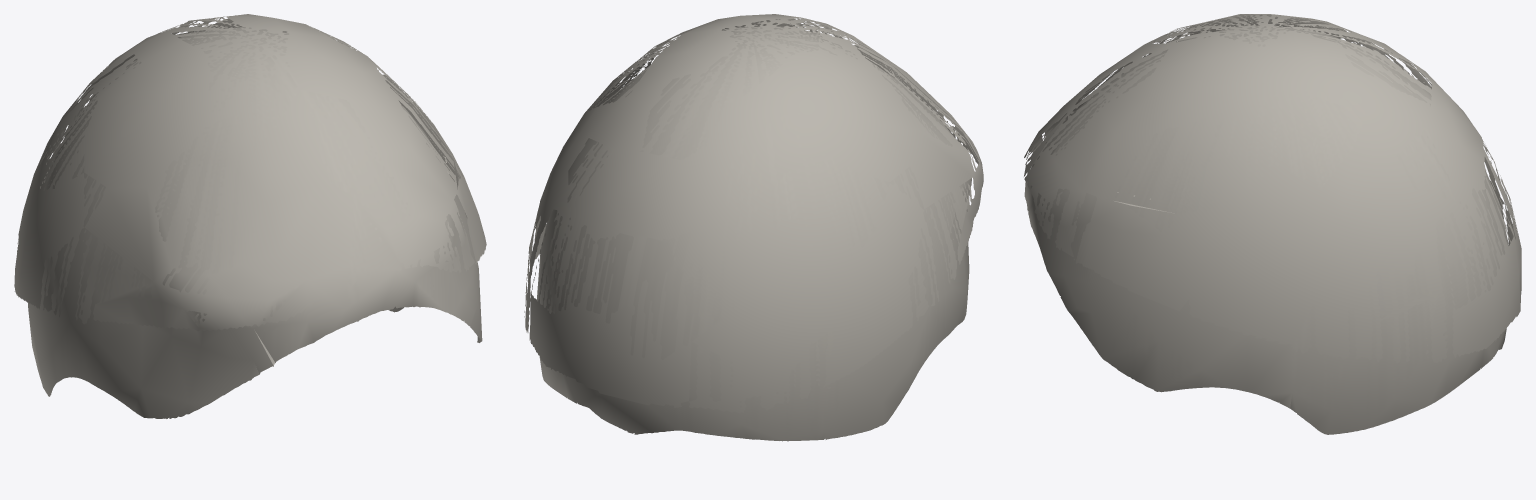
The model's file is toc_ngan_edits.mid.glb.
3 renders of one model, left to right at view 1: azimuth 30°, elevation 25°; view 2: azimuth 150°, elevation 25°; view 3: azimuth 270°, elevation 25°, orthographic. The views are drawn at different scales.
Visible parts, largest first — view 1: toc_ngan_edits; view 2: toc_ngan_edits; view 3: toc_ngan_edits.
Part boxes in pixels (x1,y1,x2,y2): toc_ngan_edits: [14, 14, 486, 418]; toc_ngan_edits: [524, 14, 983, 441]; toc_ngan_edits: [1024, 14, 1521, 434].
Bounding box in the file's own units: 0.1846 × 0.1843 × 0.2177.
Materials: 1 (1 with a texture image).
